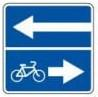road_sign: (2, 1, 96, 95)
